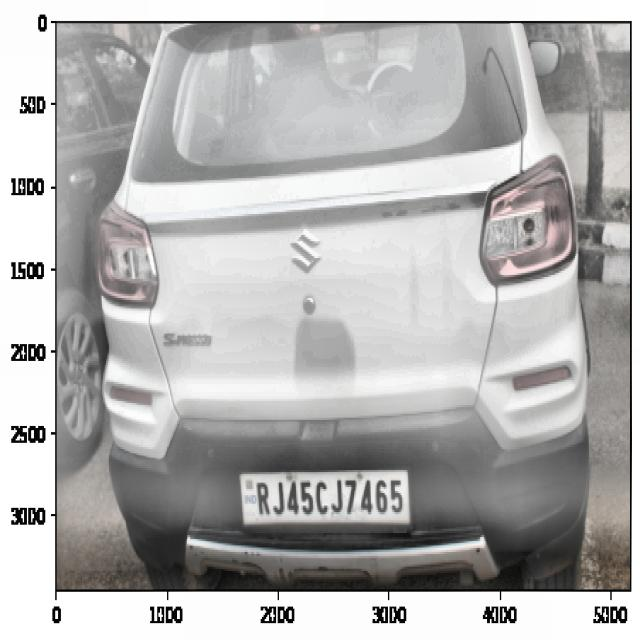license_plate: (249, 469, 412, 524)
